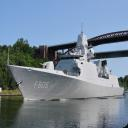Fragata: (7, 22, 128, 103)
